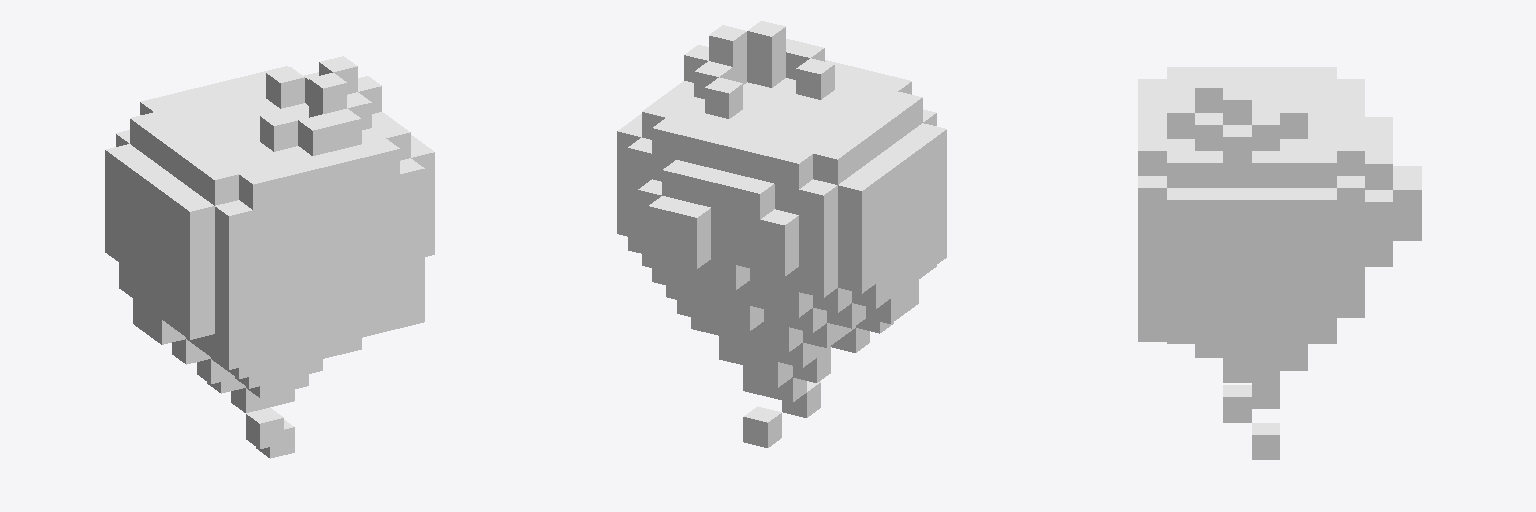
File: monster-darkness.obj
3 renders of one model, left to right at view 1: azimuth 30°, elevation 25°; view 2: azimuth 150°, elevation 25°; view 3: azimuth 270°, elevation 25°, orthographic.
Bounding box in the file's own units: 10 × 15 × 10.